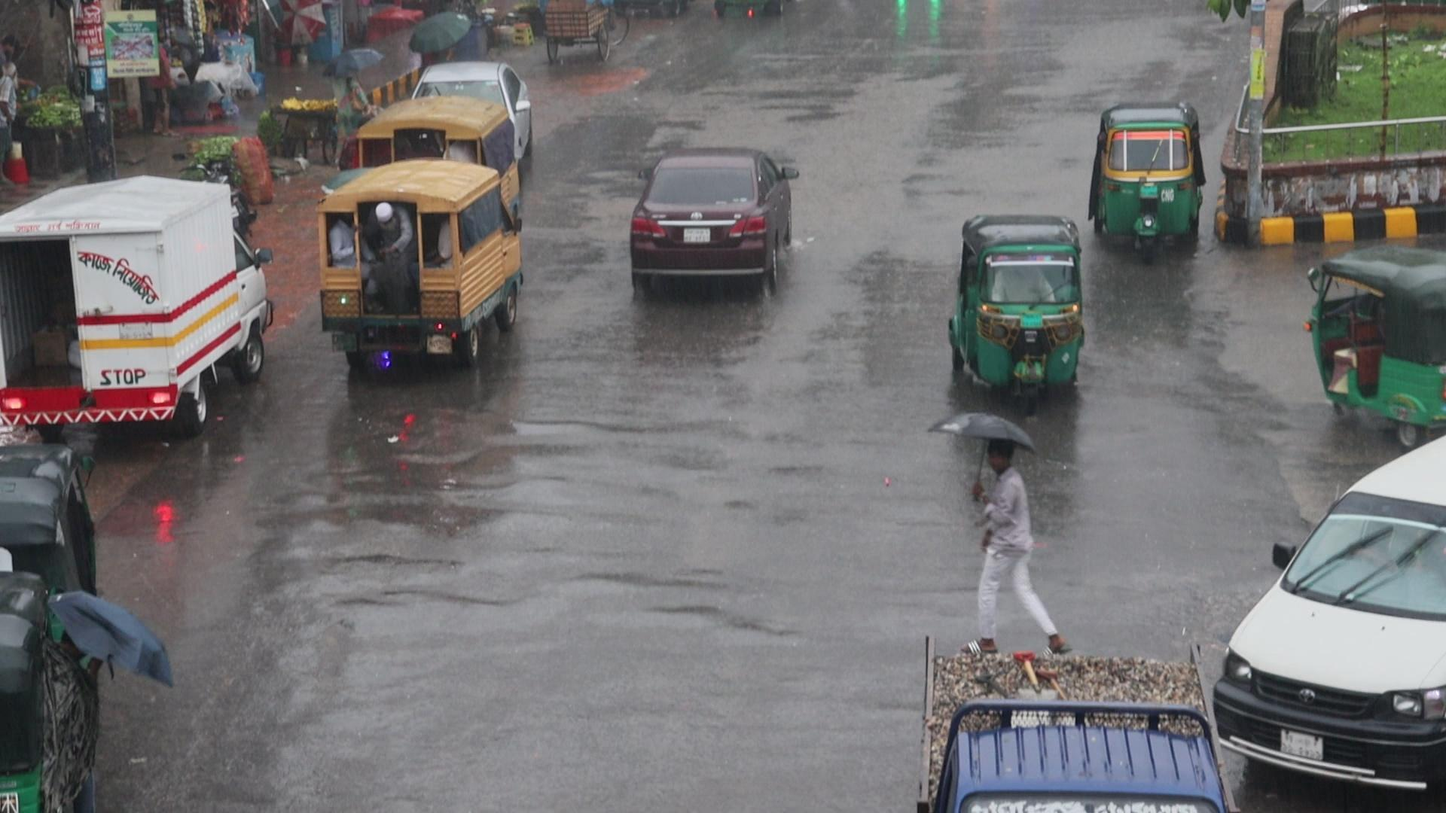Car: (1219, 430, 1446, 793), (627, 145, 798, 297)
Truck: (919, 628, 1221, 813), (313, 158, 525, 366)
